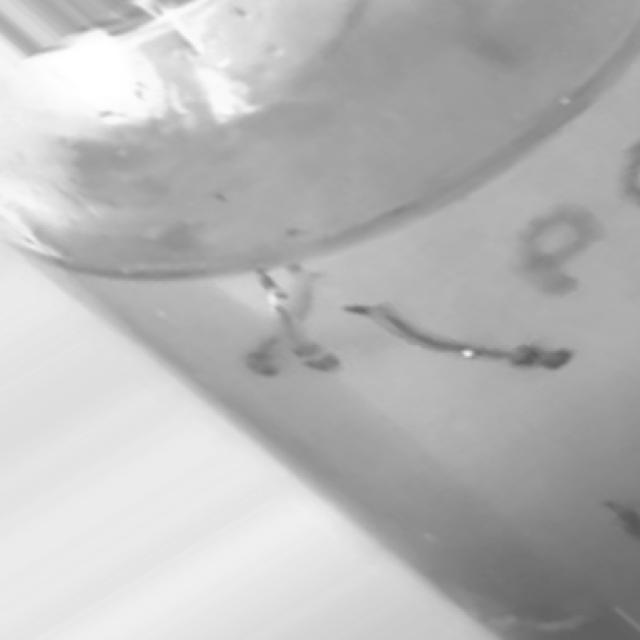larvas: (357, 296, 550, 382), (249, 269, 359, 389), (525, 208, 602, 284), (232, 340, 286, 380)
